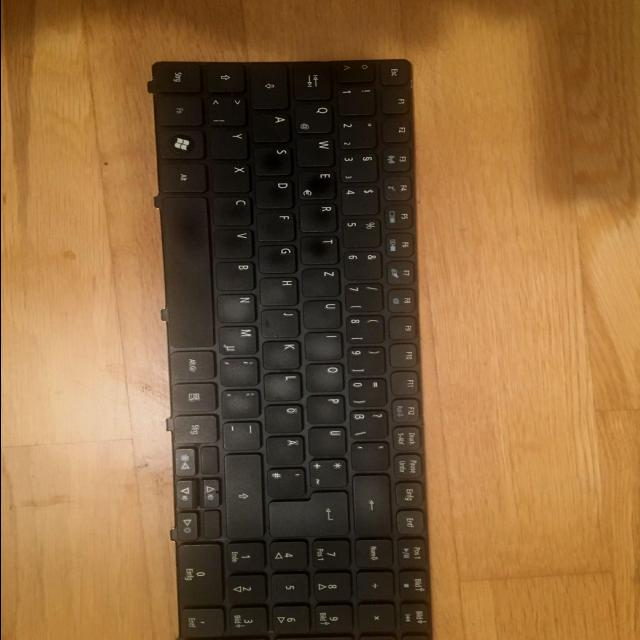0: (349, 377, 389, 405)
1: (337, 86, 377, 116)
2: (340, 118, 378, 148)
3: (340, 151, 380, 182)
4: (341, 184, 381, 214)
5: (344, 217, 382, 247)
6: (344, 250, 384, 280)
7: (345, 282, 385, 312)
8: (346, 314, 386, 342)
9: (348, 345, 388, 373)
a: (252, 111, 292, 142)
accent: (352, 440, 392, 470)
ae: (266, 434, 306, 464)
alt-left: (160, 162, 208, 192)
altgr-right: (171, 350, 217, 380)
b: (216, 260, 257, 290)
c: (212, 195, 253, 225)
caret: (336, 60, 376, 82)
comma: (221, 356, 261, 386)
d: (255, 178, 296, 208)
del: (353, 473, 393, 534)
e: (298, 169, 338, 199)
enter: (269, 491, 352, 537)
f: (256, 211, 297, 241)
g: (258, 243, 298, 273)
h: (260, 276, 300, 305)
hash: (268, 467, 309, 498)
i: (306, 331, 344, 359)
j: (262, 307, 302, 337)
k: (263, 340, 303, 369)
keyboard: (145, 54, 443, 640)
l: (265, 372, 305, 400)
less: (206, 96, 248, 125)
m: (219, 324, 259, 353)
minus: (223, 420, 263, 450)
n: (218, 293, 258, 321)
o: (306, 362, 346, 390)
oe: (265, 403, 305, 432)
p: (308, 393, 348, 423)
plus: (310, 457, 350, 487)
point: (222, 388, 262, 418)
q: (295, 102, 333, 133)
r: (299, 202, 339, 232)
s: (254, 145, 294, 175)
shift-left: (205, 62, 245, 92)
shift-lock: (251, 63, 289, 109)
shift-right: (225, 452, 265, 538)
space: (165, 197, 216, 347)
ss: (350, 409, 390, 437)
strg-left: (154, 61, 202, 93)
strg-right: (174, 412, 220, 444)
t: (301, 234, 341, 264)
tab: (293, 61, 333, 99)
u: (304, 299, 344, 328)
ue: (308, 426, 348, 455)
v: (214, 228, 255, 258)
w: (296, 137, 336, 167)
x: (210, 163, 253, 193)
y: (208, 128, 250, 159)
z: (302, 267, 342, 296)
